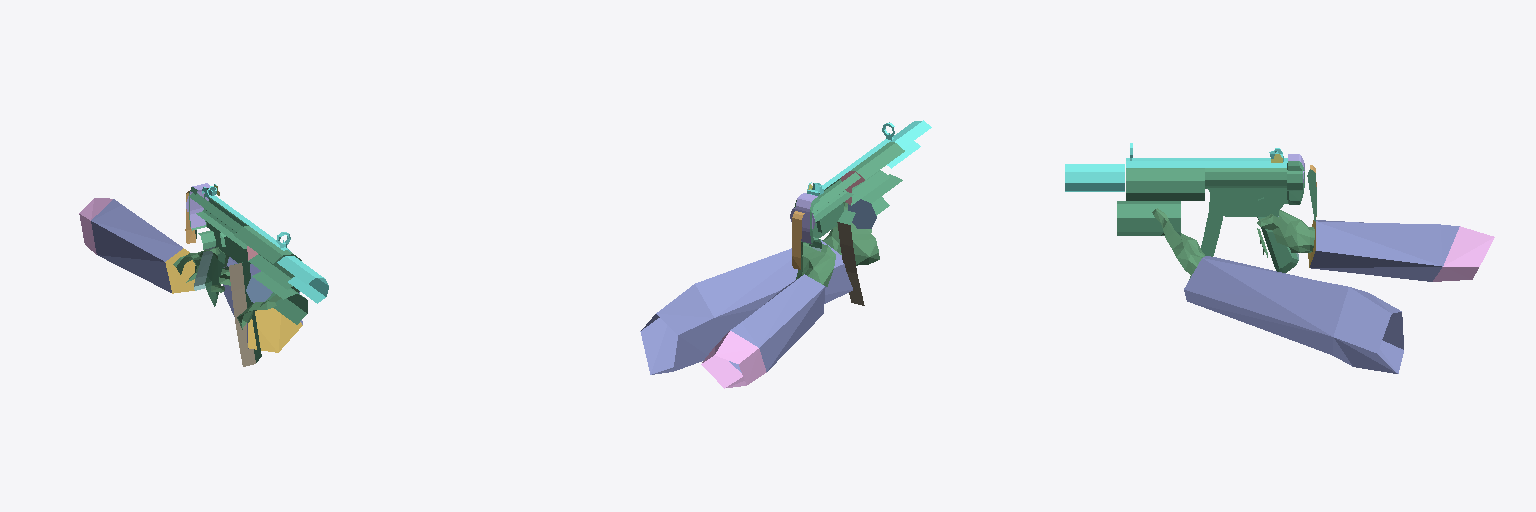
3 renders of one model, left to right at view 1: azimuth 30°, elevation 25°; view 2: azimuth 150°, elevation 25°; view 3: azimuth 270°, elevation 25°, orthographic.
Visible parts, largest first — view 1: mp5sd; view 2: mp5sd; view 3: mp5sd.
Boxes of the visible parts, <box> form: mp5sd: <box>79,183,328,366</box>; mp5sd: <box>640,120,931,388</box>; mp5sd: <box>1065,143,1494,373</box>.
Size of the model in its own units: 13.86 by 15.09 by 32.68.